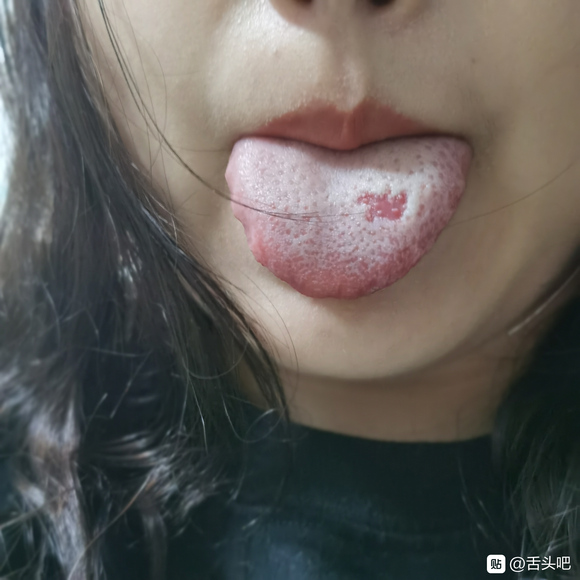baitaishe: (226, 131, 471, 300)
botaishe: (353, 188, 412, 228)
hongshe: (226, 131, 471, 300)
